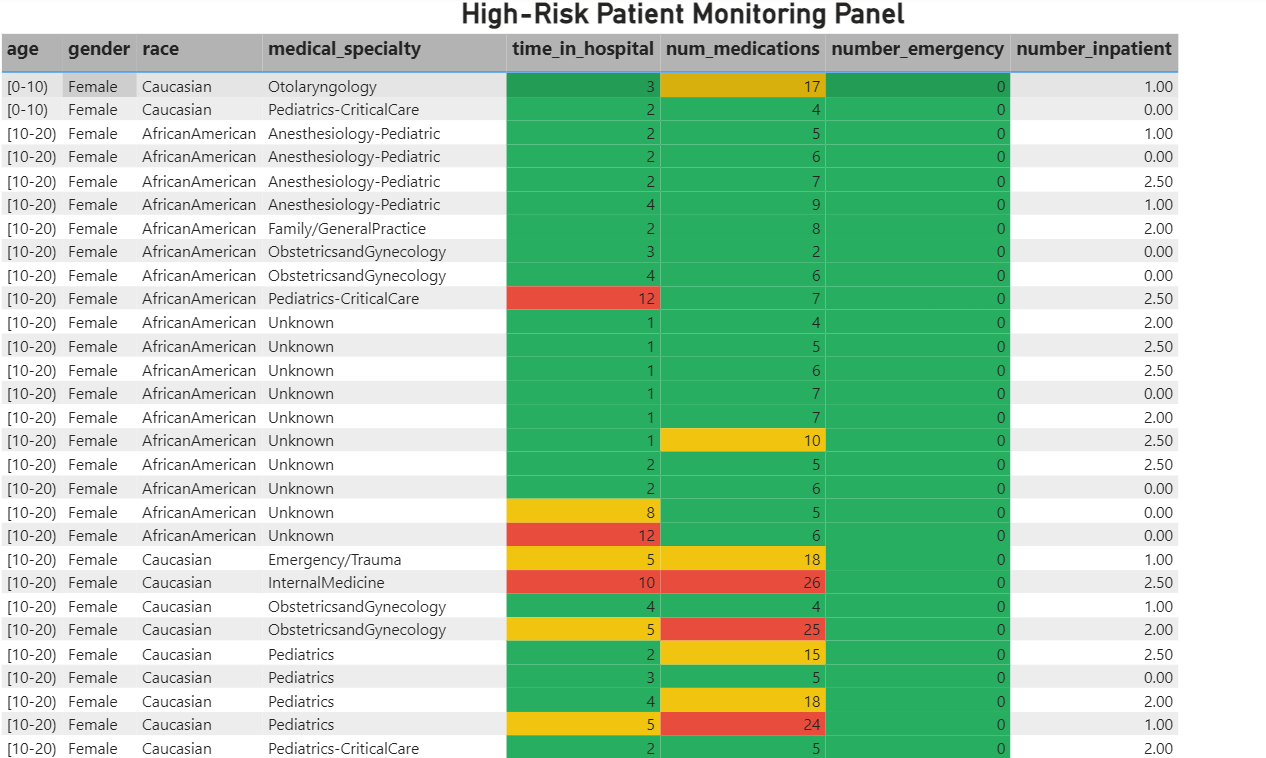

This screenshot's page, from the dashboard's own definition file:
{"tool":"powerbi","page":{"name":"High Risk Patients","canvas":[1280,720],"ordinal":2},"visuals":[{"type":"tableEx","title":"High-Risk Patient Monitoring Panel","fields":{"Values":["final_data_clean.age","final_data_clean.gender","final_data_clean.race","final_data_clean.medical_specialty","final_data_clean.time_in_hospital","final_data_clean.num_medications","final_data_clean.number_emergency","final_data_clean.number_inpatient"]},"box":[0,0,1280,720],"z":0}]}

Visuals, with their boxes on the page's 1280x720 design canvas (x1, y1, x2, y2). These are canvas units, not pixel positions in the 1266x758 screenshot, which may show the page scaled, cropped or inside an application window:
"High-Risk Patient Monitoring Panel" tableEx: 0:0:1280:720
